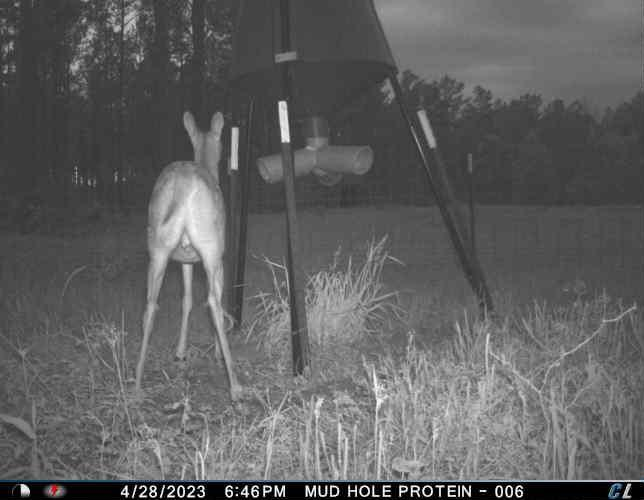Deer: (121, 109, 241, 403)
